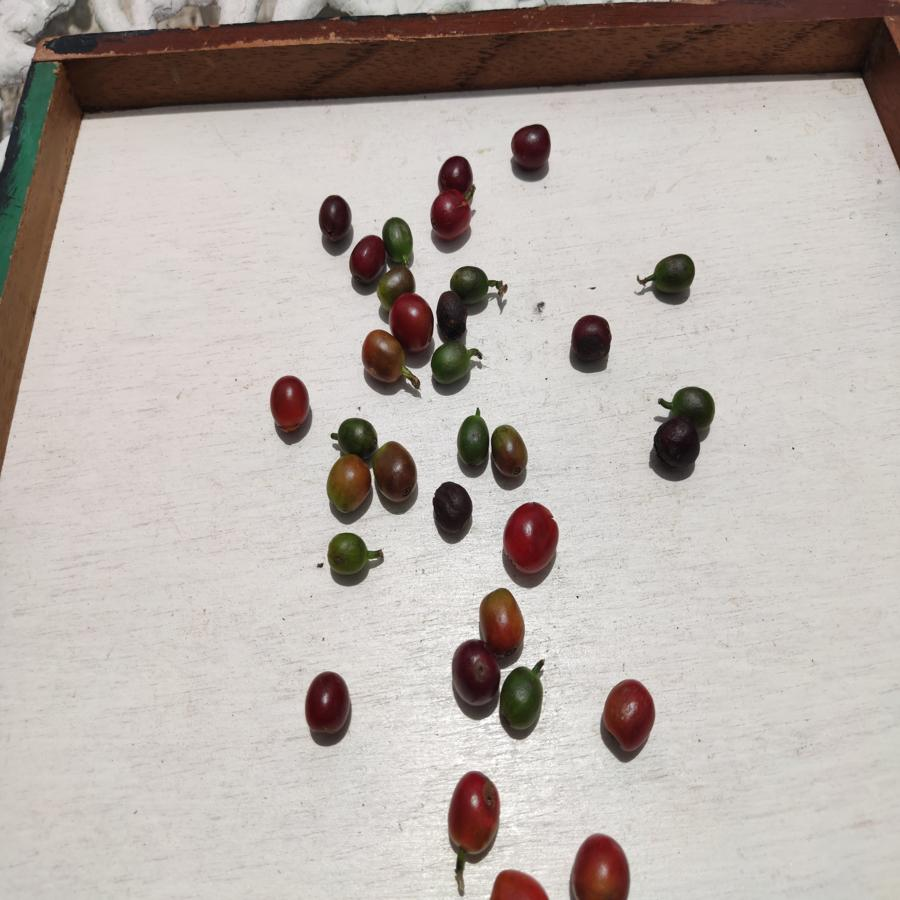Inmaduro: (324, 527, 380, 579), (502, 667, 546, 729), (428, 344, 480, 384), (457, 413, 491, 467), (669, 387, 716, 426), (653, 254, 696, 292), (333, 416, 377, 453), (451, 266, 493, 302), (380, 216, 414, 256)
Maduro: (448, 771, 506, 858), (600, 678, 658, 752), (503, 503, 559, 576), (570, 832, 630, 900), (269, 375, 313, 436), (390, 292, 434, 350), (490, 864, 549, 900)
Pinton: (478, 588, 529, 656), (362, 329, 402, 389), (491, 422, 528, 482), (327, 456, 368, 510), (378, 266, 418, 292)
Sobremaduro: (303, 672, 354, 737), (451, 639, 498, 708), (566, 312, 614, 365), (429, 480, 475, 535), (508, 122, 557, 171), (652, 420, 699, 469), (431, 191, 474, 240), (318, 193, 351, 242), (349, 236, 382, 284), (436, 291, 469, 338), (436, 154, 475, 192)
